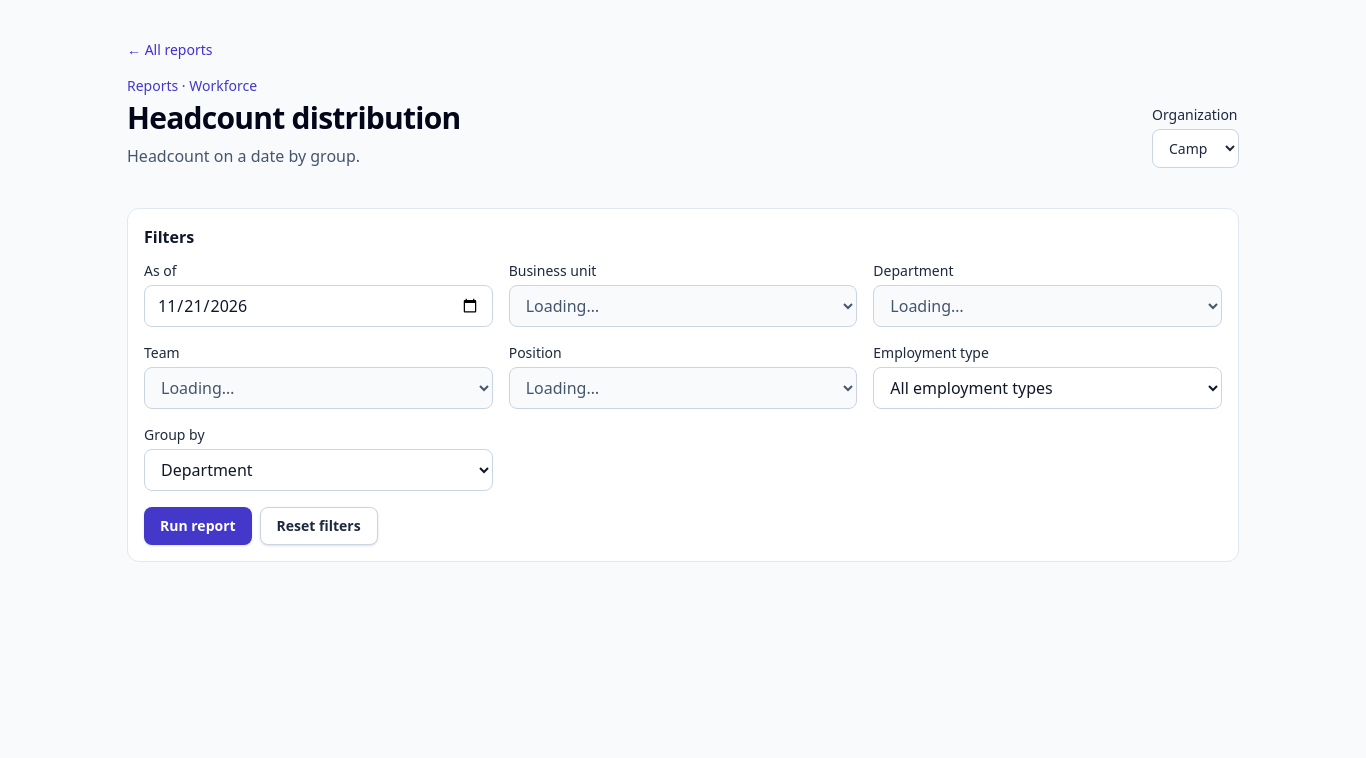
Test: ReportPage › downloads the CSV of the displayed result
This screenshot has width=1366, height=758.
Expected: the form named "Report filters" is shown, [144,261,1222,545]
Select "Team" in the dropdown labelled "Group by" at [318, 470], box [144,449,493,491]
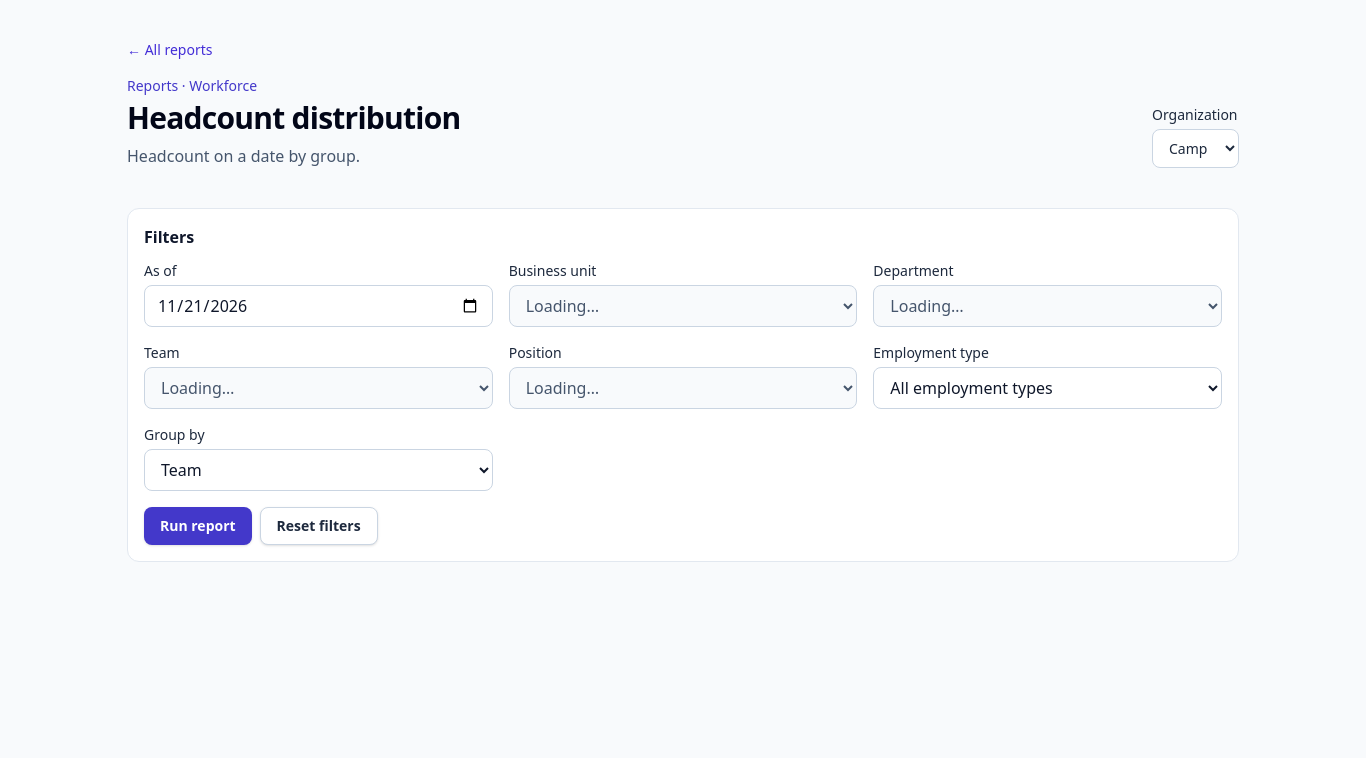
Click the button "Run report" at [198, 526], box [144,507,252,545]
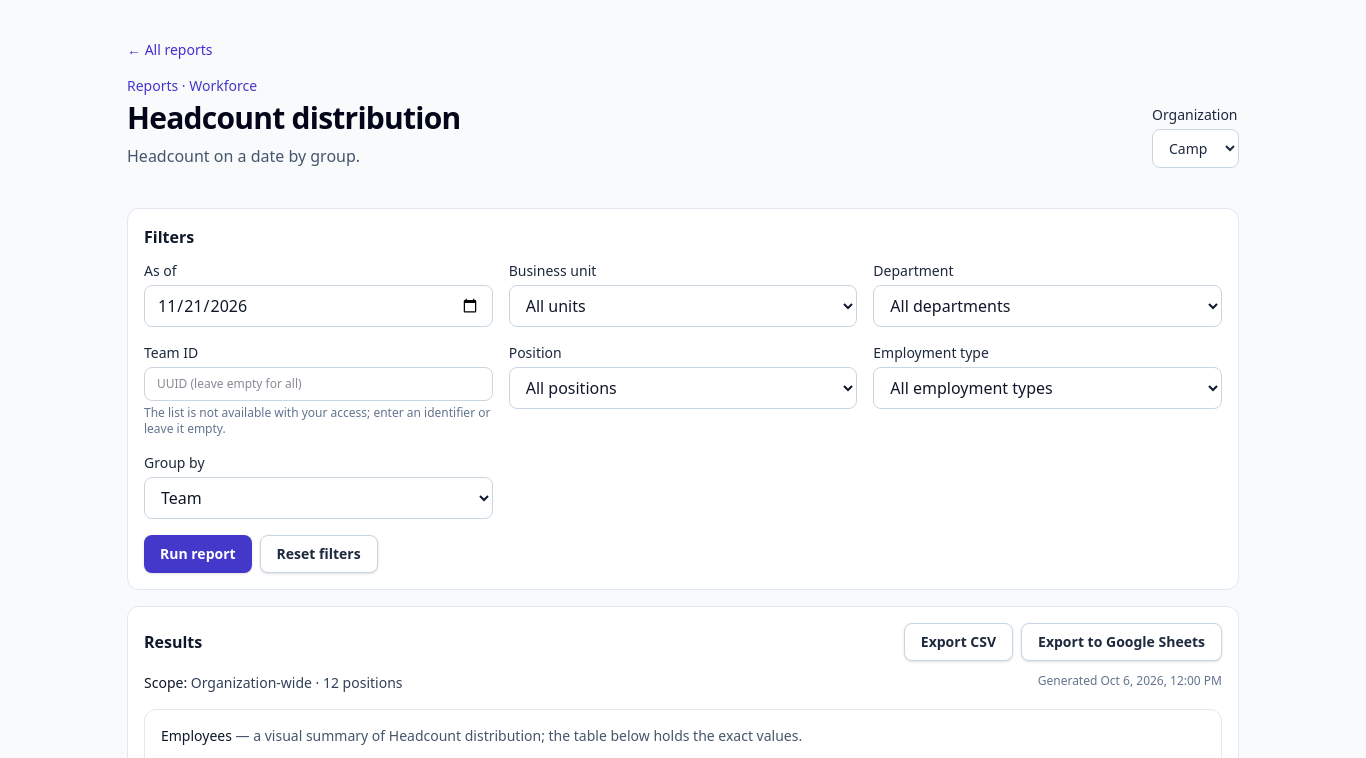
# A later, un-run change does not leak into the export.
Select "Position" in the dropdown labelled "Group by" at [318, 498], box [144,477,493,519]
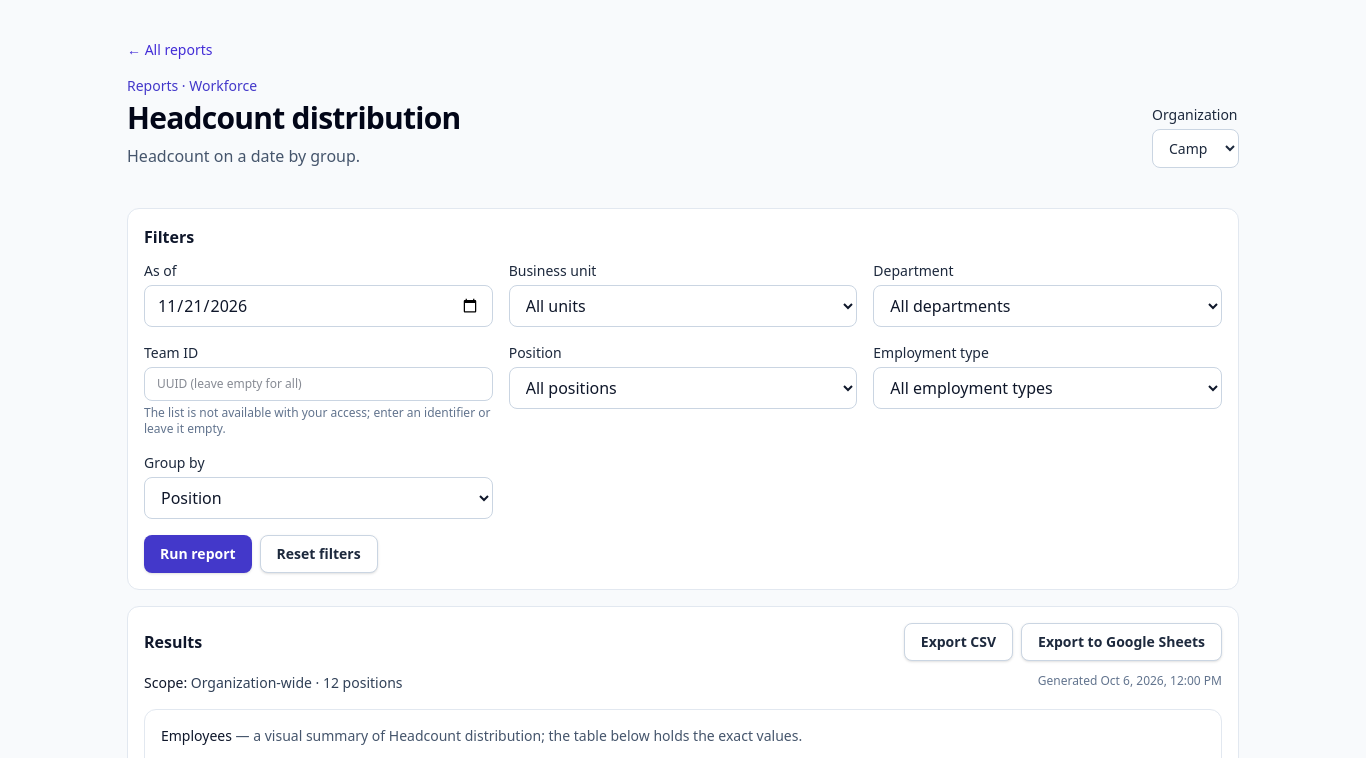
Click the button "Export CSV" at [958, 642], box [904,623,1013,661]
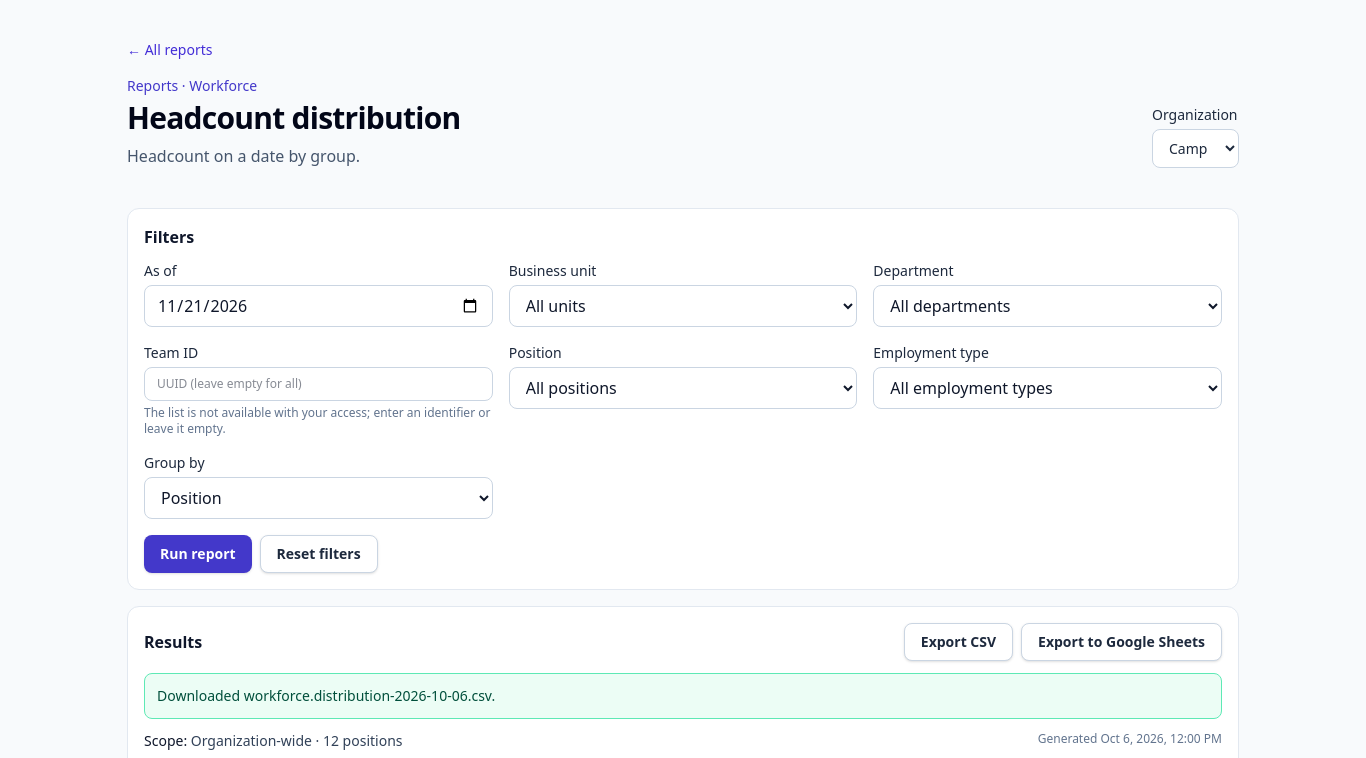
Now the text "Downloaded workforce.distribution-2026-10-06.csv." is shown, box [144,673,1222,719]
